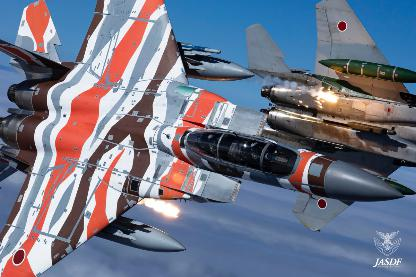F117: (0, 0, 405, 276), (245, 0, 415, 231)
